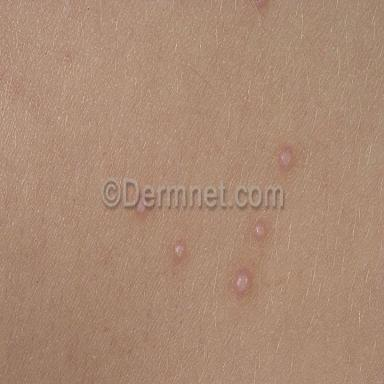Molluscum-Contagiosum: (235, 269, 251, 295), (278, 146, 294, 169), (174, 241, 186, 261), (255, 221, 265, 240)
